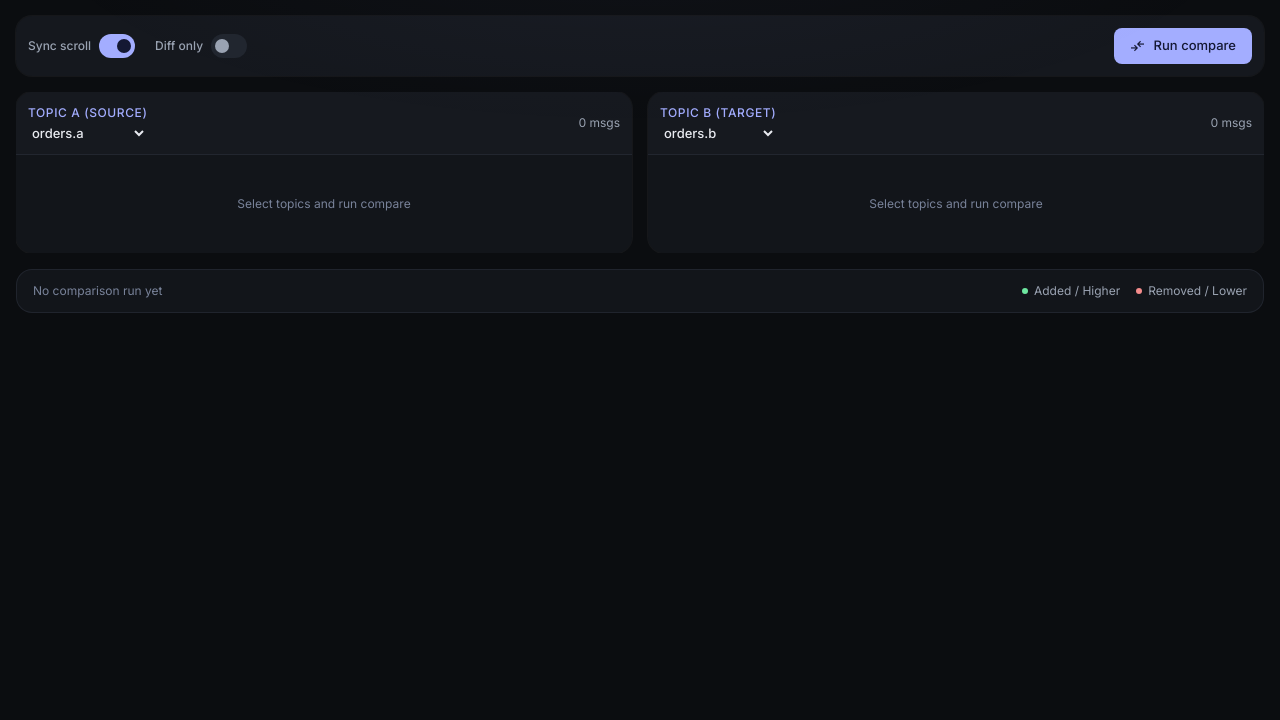
Compare › leaves the panes independent when Sync scroll is off
This screenshot has width=1280, height=720.
Check: the dropdown named "Topic A" is shown, box [28,124,148,142]
Click the switch named "sync scroll": click(117, 46) [99,34,135,58]
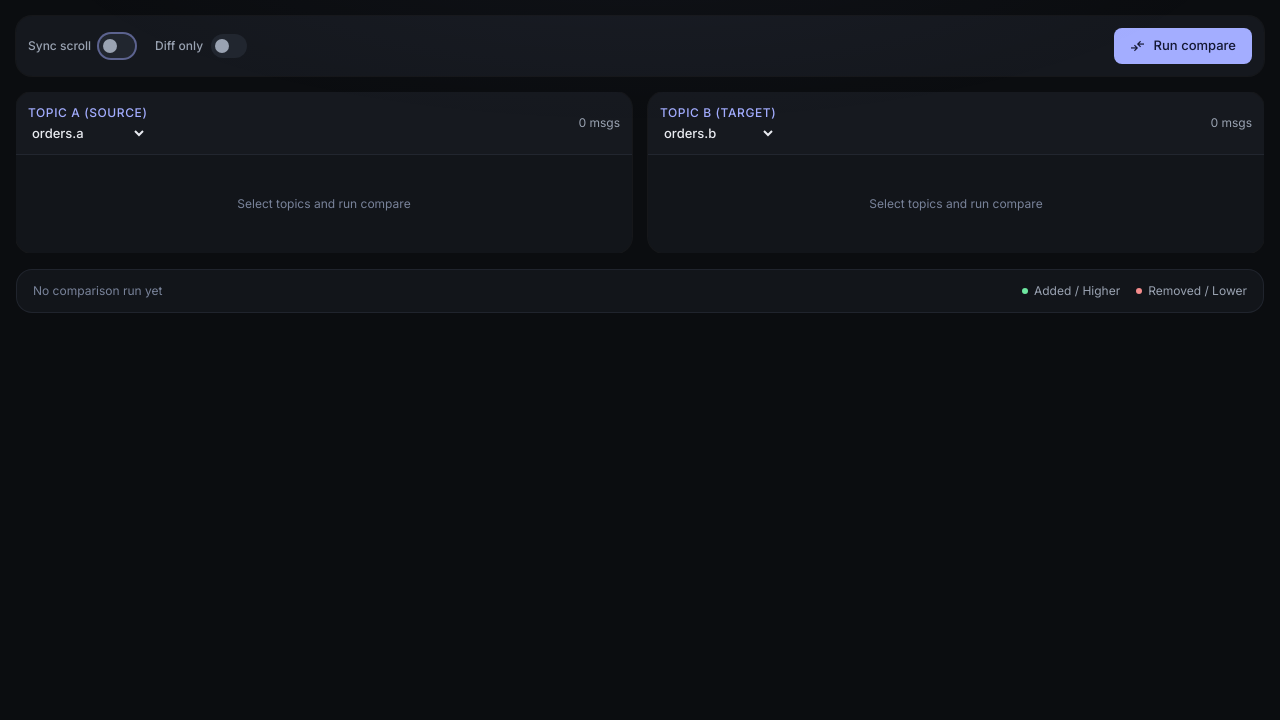
Click the button "Run compare": click(1183, 46) [1114,28,1252,64]
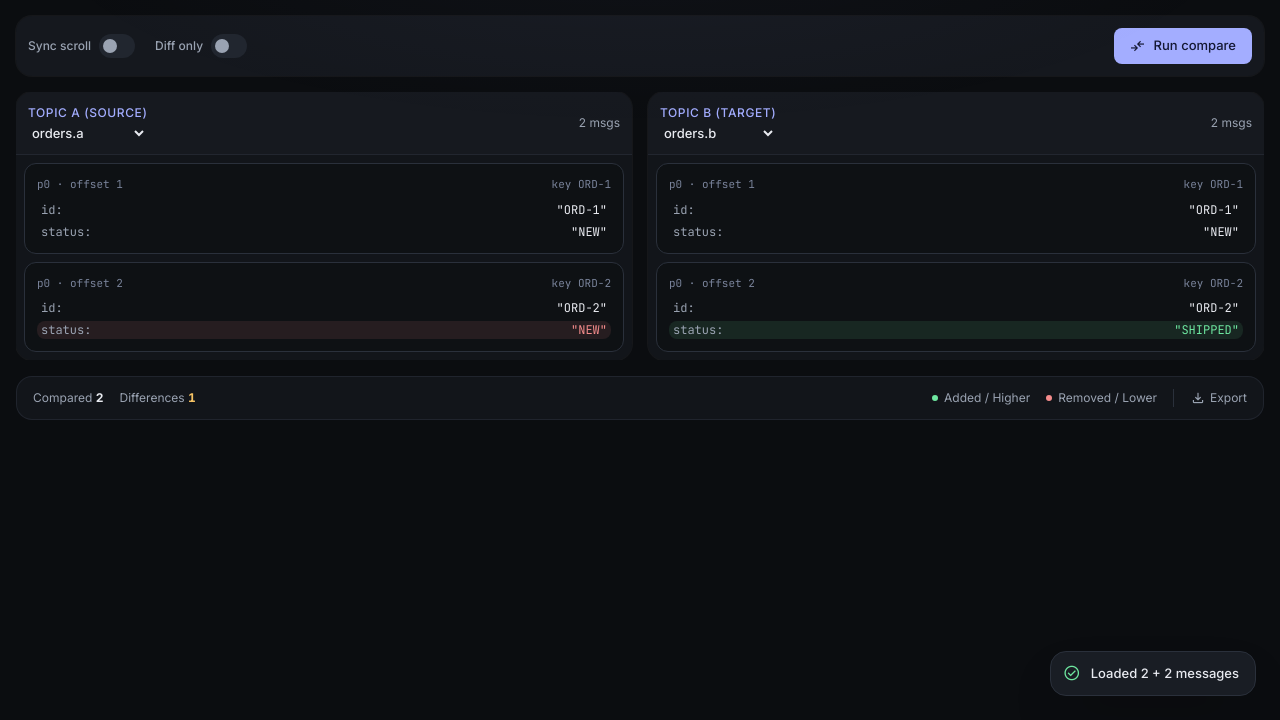
Check: the text "p0 · offset 1" is shown 2 times, box [37,176,123,192]; [669,176,755,192]
